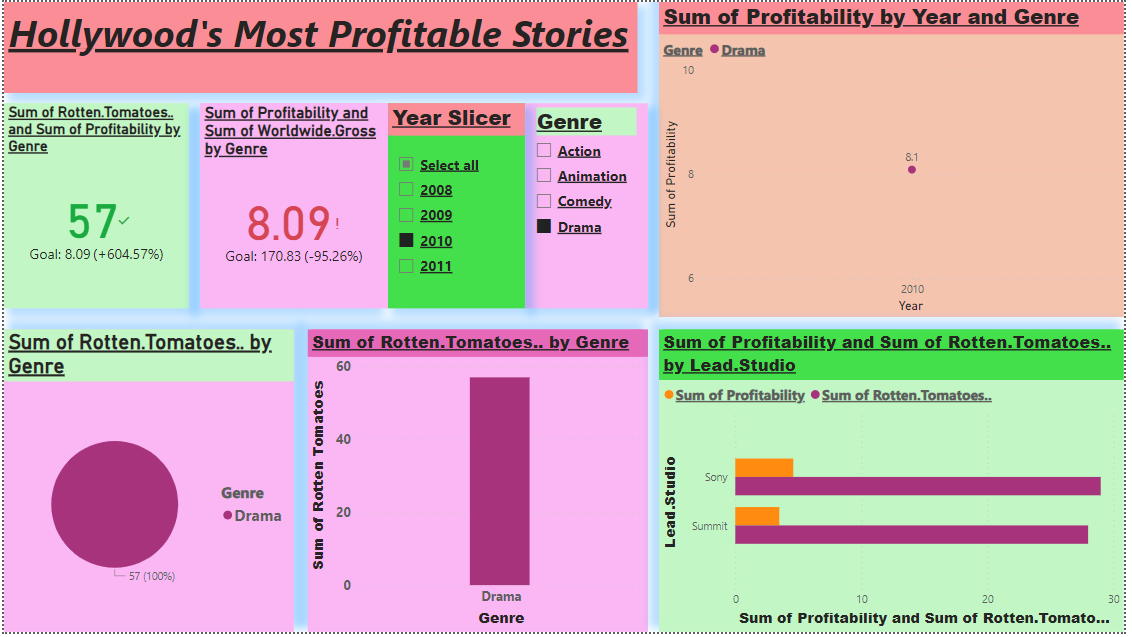

The dashboard page shown, as its layout file describes it:
{"tool":"powerbi","page":{"name":"Hollywoods Most Profitable Stories","canvas":[1280,720],"ordinal":0},"visuals":[{"type":"clusteredColumnChart","fields":{"Category":["clean_df.Genre"],"Y":["Sum(clean_df.Rotten.Tomatoes..)"]},"box":[347.1,374.3,388.6,345.7],"z":0},{"type":"lineChart","fields":{"Category":["clean_df.Year"],"Y":["Sum(clean_df.Profitability)"],"Series":["clean_df.Genre"]},"box":[748.6,0,531.4,360],"z":1},{"type":"textbox","box":[0,0,724.3,104.3],"z":2},{"type":"pieChart","fields":{"Series":["clean_df.Genre"],"Y":["Sum(clean_df.Rotten.Tomatoes..)"]},"box":[0,374.3,331.4,345.7],"z":3},{"type":"slicer","fields":{"Values":["clean_df.Genre"]},"box":[595.7,115.7,140,234.3],"z":4},{"type":"slicer","title":"Year Slicer","fields":{"Values":["clean_df.Year"]},"box":[438.6,115.7,157.1,234.3],"z":5},{"type":"kpi","fields":{"Indicator":["Sum(clean_df.Rotten.Tomatoes..)"],"Goal":["Sum(clean_df.Profitability)"],"TrendLine":["clean_df.Genre"]},"box":[0,115.7,211.4,234.3],"z":6},{"type":"kpi","fields":{"TrendLine":["clean_df.Genre"],"Indicator":["Sum(clean_df.Profitability)"],"Goal":["Sum(clean_df.Worldwide.Gross)"]},"box":[224.3,115.7,214.3,234.3],"z":7},{"type":"clusteredBarChart","fields":{"Category":["clean_df.Lead.Studio"],"Y":["Sum(clean_df.Profitability)","Sum(clean_df.Rotten.Tomatoes..)"]},"box":[748.6,374.3,531.4,345.7],"z":8}]}

Visuals, with their boxes in screenshot pixels (x1, y1, x2, y2), scaled from the page's 1280x720 canvas onto the 1132x637 screenshot:
clusteredColumnChart - clean_df.Genre x Sum(clean_df.Rotten.Tomatoes..): x1=307, y1=331, x2=651, y2=636
lineChart - clean_df.Year x Sum(clean_df.Profitability): x1=662, y1=0, x2=1131, y2=318
textbox: x1=0, y1=0, x2=641, y2=92
pieChart - clean_df.Genre x Sum(clean_df.Rotten.Tomatoes..): x1=0, y1=331, x2=293, y2=636
slicer - clean_df.Genre: x1=527, y1=102, x2=651, y2=310
"Year Slicer" slicer: x1=388, y1=102, x2=527, y2=310
kpi - Sum(clean_df.Rotten.Tomatoes..) x Sum(clean_df.Profitability): x1=0, y1=102, x2=187, y2=310
kpi - clean_df.Genre x Sum(clean_df.Profitability): x1=198, y1=102, x2=388, y2=310
clusteredBarChart - clean_df.Lead.Studio x Sum(clean_df.Profitability): x1=662, y1=331, x2=1131, y2=636
